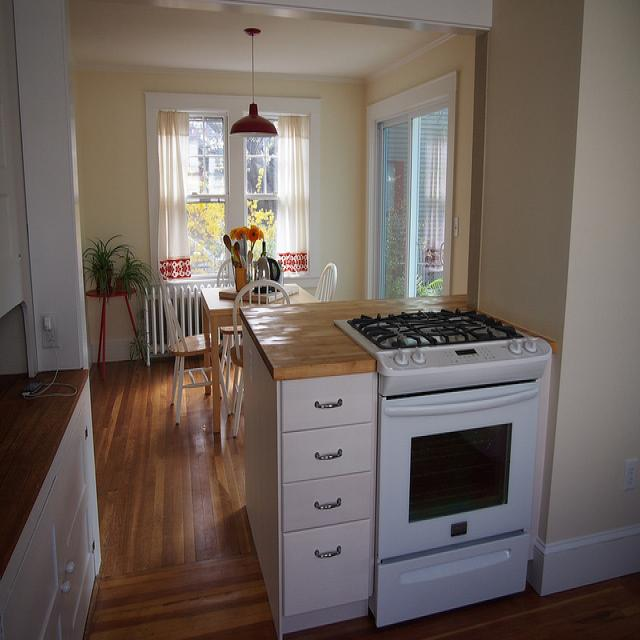chair: (158, 270, 233, 427), (230, 279, 292, 437), (314, 259, 337, 305), (217, 259, 235, 287)
